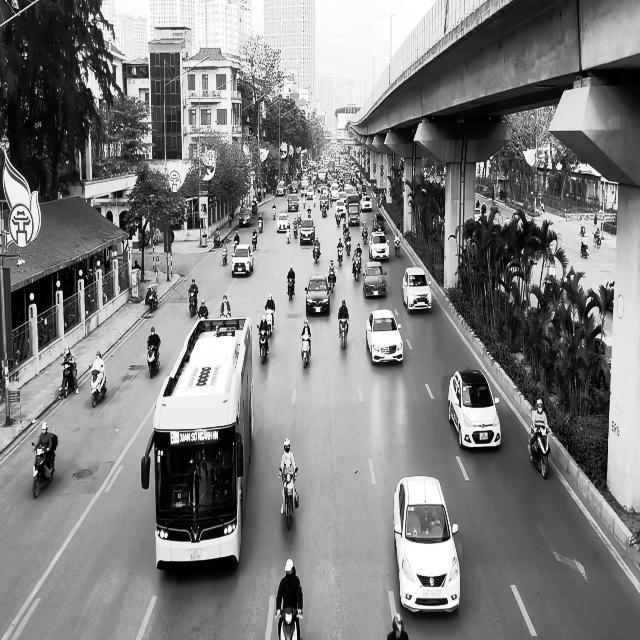bus: (141, 315, 254, 570)
car: (393, 474, 460, 614), (447, 368, 501, 449), (366, 309, 403, 364), (402, 266, 432, 313), (305, 274, 330, 316), (362, 261, 387, 297), (231, 243, 254, 277), (368, 231, 390, 261), (300, 218, 316, 245), (238, 207, 252, 227), (276, 213, 290, 232)
motorbike: (31, 432, 57, 498), (278, 466, 298, 530), (528, 426, 552, 478), (88, 364, 106, 408), (58, 362, 79, 399), (147, 340, 160, 378), (257, 324, 269, 364), (300, 333, 311, 368), (145, 284, 158, 311), (338, 317, 348, 350), (352, 253, 361, 281), (265, 308, 274, 336), (188, 291, 197, 317), (328, 269, 337, 292), (287, 277, 295, 300), (580, 239, 589, 258), (312, 242, 320, 262), (593, 229, 601, 247), (394, 237, 400, 257), (222, 247, 228, 266)
